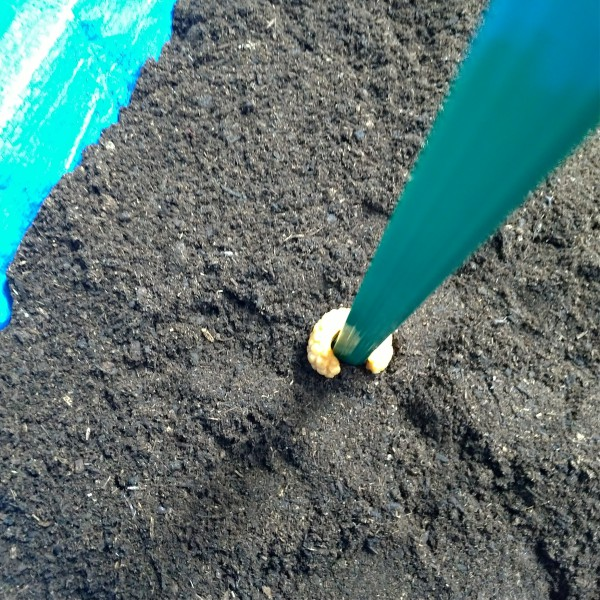eggs: (300, 302, 395, 380)
